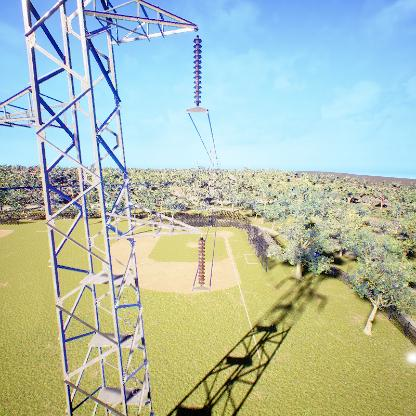insulator: (191, 36, 203, 108), (196, 237, 207, 287)
